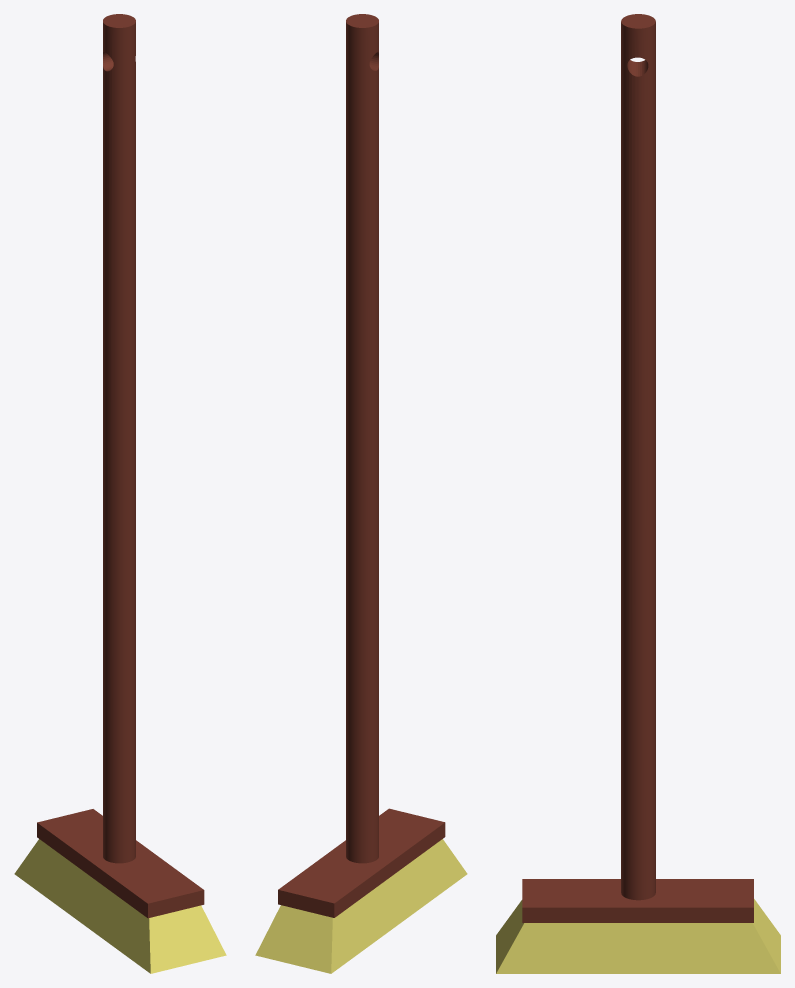
Rendered from borysowa_szczota.fbx.
3 views of the same model, side by side, from view 1: azimuth 30°, elevation 25°; view 2: azimuth 150°, elevation 25°; view 3: azimuth 270°, elevation 25° (orthographic). The views are drawn at different scales.
Visible parts, largest first — view 1: Cylinder, Cube.001, Cube; view 2: Cylinder, Cube.001, Cube; view 3: Cylinder, Cube.001, Cube.
Part boxes in pixels (x1=…): Cylinder: x1=103, y1=14, x2=135, y2=863; Cube.001: x1=14, y1=839, x2=226, y2=973; Cube: x1=37, y1=809, x2=204, y2=918; Cylinder: x1=346, y1=14, x2=378, y2=863; Cube.001: x1=255, y1=839, x2=467, y2=973; Cube: x1=278, y1=808, x2=445, y2=917; Cylinder: x1=621, y1=14, x2=655, y2=900; Cube.001: x1=496, y1=899, x2=780, y2=973; Cube: x1=522, y1=879, x2=753, y2=922.
Size of the model in its own units: 17.43 by 196 by 54.3.
